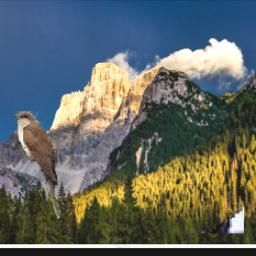Crow: (185, 86, 244, 234)
Cuckoo: (14, 112, 62, 220)
